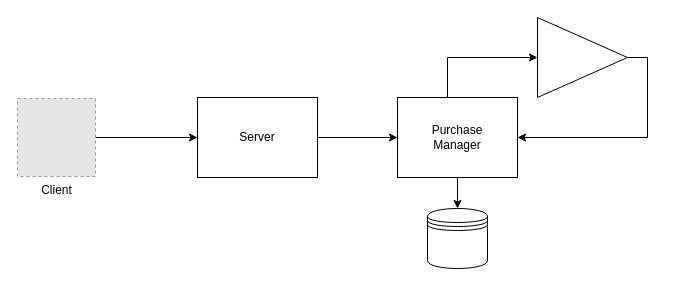
This 673x286 diagram has some shape labels left out. Grey dashed boxes stand in for pictures. The centre of each missing label's shape, as x and y in pixels:
Rabbit Queue: the point at 582,57
Redis: the point at 457,238
